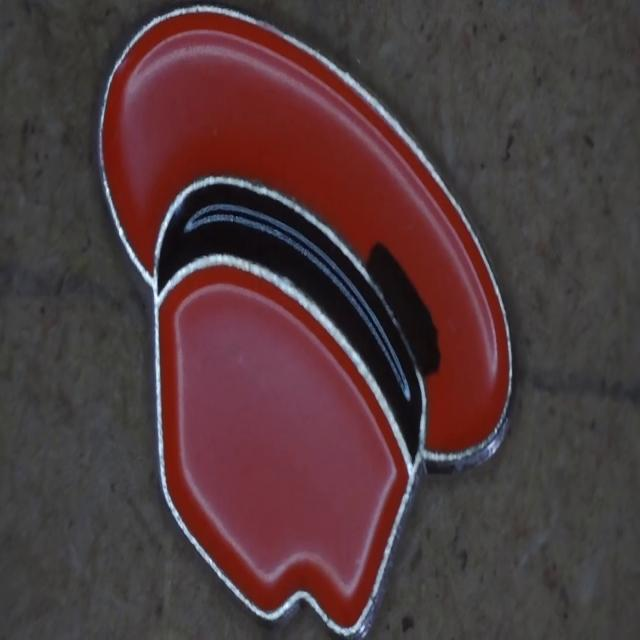Hatband: (158, 180, 422, 459)
Paint_Leak: (366, 247, 440, 376)
RedHatPin: (100, 9, 511, 636)
